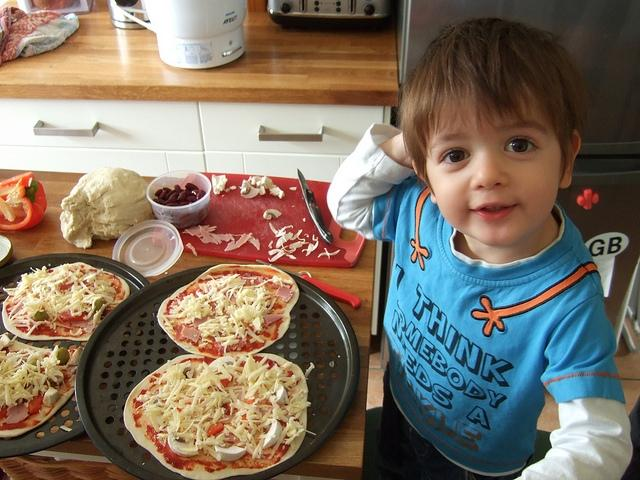bell pepper: (0, 172, 48, 230)
mushroom: (168, 436, 200, 458), (262, 418, 282, 450), (216, 444, 246, 461), (43, 386, 61, 406), (262, 176, 280, 196), (272, 384, 288, 406), (212, 174, 228, 195), (263, 209, 281, 220), (183, 368, 191, 378)
